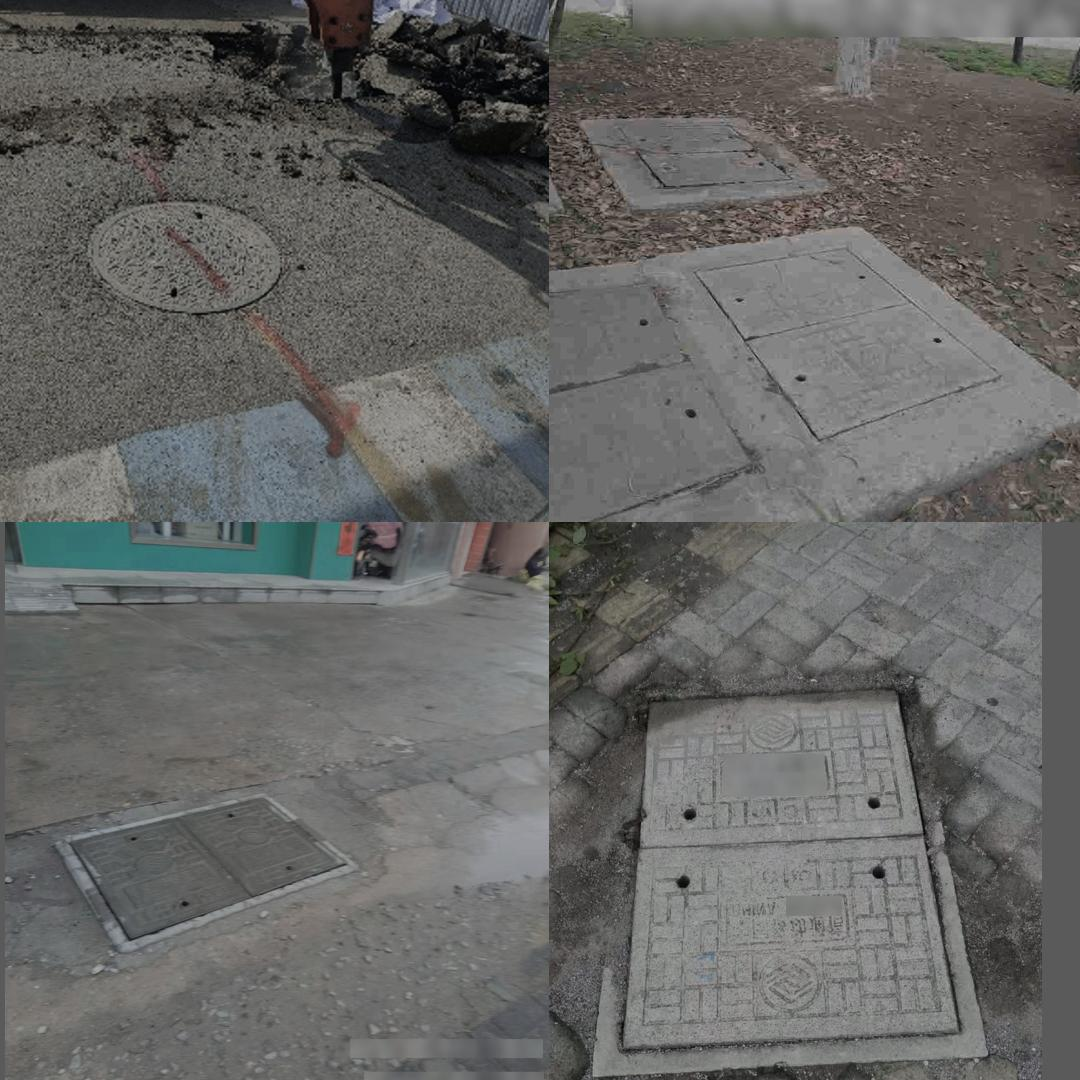good: (593, 672, 989, 1080), (684, 242, 1012, 451), (549, 276, 774, 522), (57, 790, 359, 953), (93, 194, 283, 314), (612, 120, 799, 194)
